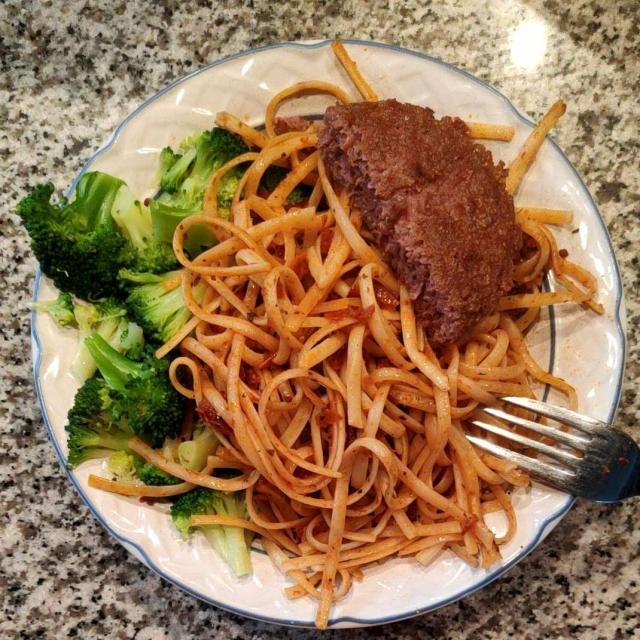broccoli: (13, 142, 305, 585)
pasta: (197, 102, 585, 615)
veggie-burger: (332, 90, 518, 340)
